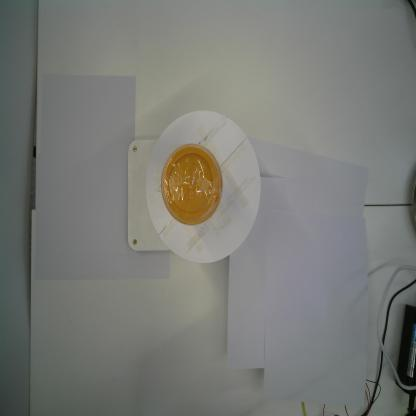Instant Drink: (160, 142, 225, 228)
